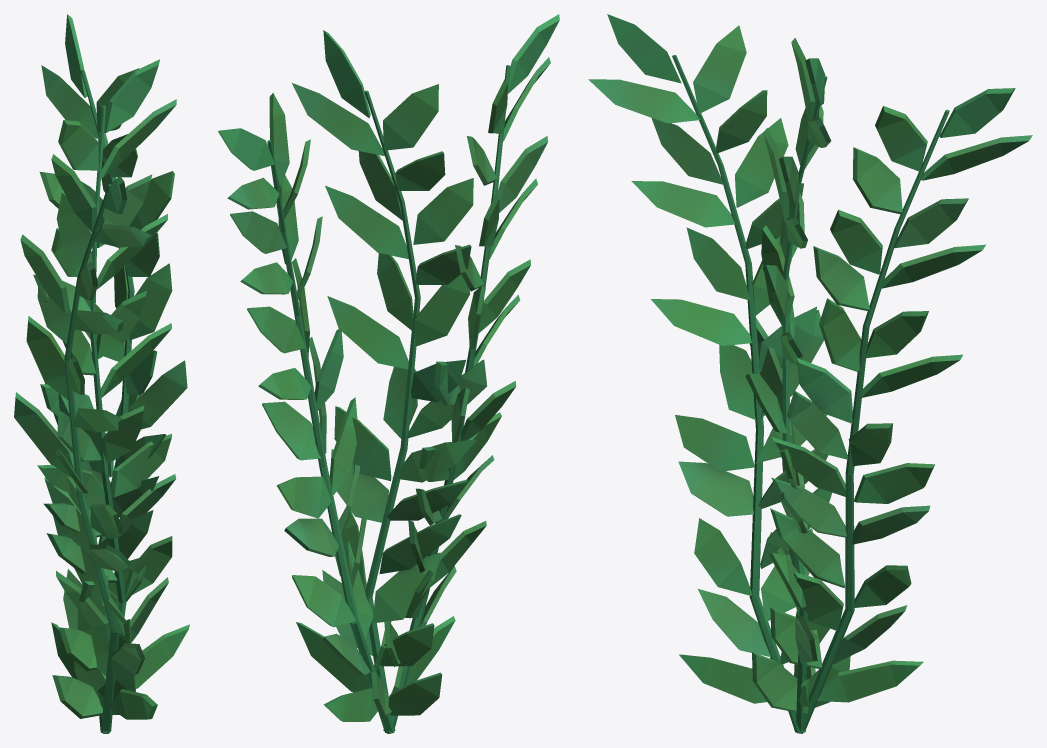
The model's file is vine1_fixed.glb.
3 views of the same model, side by side, from view 1: azimuth 30°, elevation 25°; view 2: azimuth 150°, elevation 25°; view 3: azimuth 270°, elevation 25° (orthographic). The views are drawn at different scales.
Visible parts, largest first — view 1: Kelp_mesh.001; view 2: Kelp_mesh.001; view 3: Kelp_mesh.001.
Part boxes in pixels (box(x1,y1,x2,y2)): Kelp_mesh.001: box(14, 14, 189, 733); Kelp_mesh.001: box(218, 14, 559, 733); Kelp_mesh.001: box(588, 14, 1032, 733).
Bounding box in the file's own units: 1.73 × 5.92 × 3.39.
Materials: 1 (1 with a texture image).
